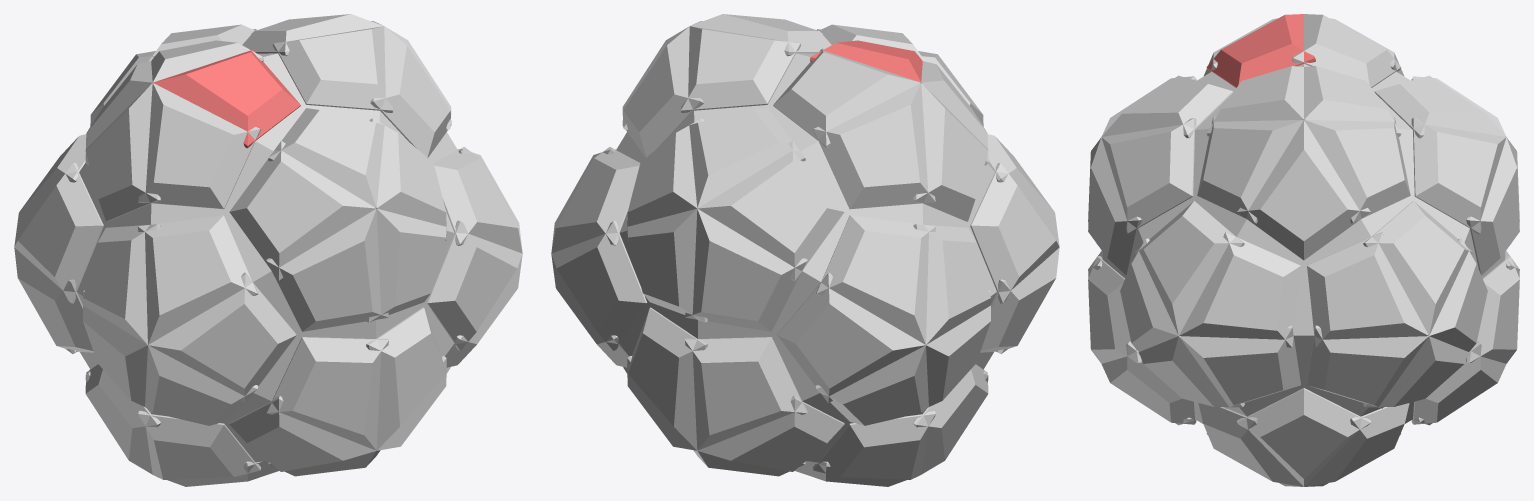
File: asu_capside.fbx
3 renders of one model, left to right at view 1: azimuth 30°, elevation 25°; view 2: azimuth 150°, elevation 25°; view 3: azimuth 270°, elevation 25°, orthographic. The views are drawn at different scales.
Visible parts, largest first — view 1: Platonic, Cylinder_1_2_5_0_instance_7, Cylinder_1_2_5_1_instance_7, Cylinder_1_2_5_2_instance_7, Cylinder_1_2_5_0_instance_16, Cylinder_1_2_5_2_instance_16, Cylinder_1_2_5_1_instance_16, Cylinder_1_2_5_2, Cylinder_1_2_5_0, Cylinder_1_2_5_1, Cylinder_1_2_5_0_instance_17, Cylinder_1_2_5_0_instance_6 (+23 smaller); view 2: Platonic, Cylinder_1_2_5_2_instance_5, Cylinder_1_2_5_1_instance_5, Cylinder_1_2_5_0_instance_5, Cylinder_1_2_5_1_instance_19, Cylinder_1_2_5_2_instance_19, Cylinder_1_2_5_0_instance_19, Cylinder_1_2_5_0_instance_4, Cylinder_1_2_5_2_instance_4, Cylinder_1_2_5_1_instance_4, Cylinder_1_2_5_1_instance_18, Cylinder_1_2_5_1_instance_6 (+23 smaller); view 3: Platonic, Cylinder_1_2_5_1_instance_2, Cylinder_1_2_5_2_instance_2, Cylinder_1_2_5_0_instance_2, Cylinder_1_2_5_1_instance, Cylinder_1_2_5_2_instance_3, Cylinder_1_2_5_2_instance, Cylinder_1_2_5_1_instance_3, Cylinder_1_2_5_0_instance, Cylinder_1_2_5_0_instance_3, Cylinder_1_2_5_1_instance_10, Cylinder_1_2_5_0_instance_10 (+19 smaller).
Boxes of the visible parts, box(x1,y1,x2,y2) form: Platonic: box(77, 53, 457, 462); Cylinder_1_2_5_0_instance_7: box(138, 83, 261, 209); Cylinder_1_2_5_1_instance_7: box(138, 215, 257, 344); Cylinder_1_2_5_2_instance_7: box(229, 141, 375, 281); Cylinder_1_2_5_0_instance_16: box(266, 337, 388, 450); Cylinder_1_2_5_2_instance_16: box(148, 272, 296, 403); Cylinder_1_2_5_1_instance_16: box(266, 208, 388, 331); Cylinder_1_2_5_2: box(273, 26, 393, 112); Cylinder_1_2_5_0: box(153, 48, 300, 148); Cylinder_1_2_5_1: box(268, 108, 392, 208); Cylinder_1_2_5_0_instance_17: box(426, 220, 522, 350); Cylinder_1_2_5_0_instance_6: box(14, 163, 103, 303); Platonic: box(616, 53, 996, 462); Cylinder_1_2_5_2_instance_5: box(812, 83, 935, 209); Cylinder_1_2_5_1_instance_5: box(816, 215, 935, 344); Cylinder_1_2_5_0_instance_5: box(698, 141, 844, 281); Cylinder_1_2_5_1_instance_19: box(685, 337, 807, 450); Cylinder_1_2_5_2_instance_19: box(777, 272, 925, 403); Cylinder_1_2_5_0_instance_19: box(685, 208, 807, 331); Cylinder_1_2_5_0_instance_4: box(680, 26, 800, 112); Cylinder_1_2_5_2_instance_4: box(773, 48, 920, 148); Cylinder_1_2_5_1_instance_4: box(681, 108, 805, 208); Cylinder_1_2_5_1_instance_18: box(551, 220, 647, 350); Cylinder_1_2_5_1_instance_6: box(970, 163, 1059, 303); Platonic: box(1102, 64, 1505, 423); Cylinder_1_2_5_1_instance_2: box(1179, 232, 1300, 347); Cylinder_1_2_5_2_instance_2: box(1307, 232, 1428, 347); Cylinder_1_2_5_0_instance_2: box(1237, 120, 1370, 260); Cylinder_1_2_5_1_instance: box(1101, 118, 1196, 234); Cylinder_1_2_5_2_instance_3: box(1411, 118, 1506, 234); Cylinder_1_2_5_2_instance: box(1135, 201, 1244, 335); Cylinder_1_2_5_1_instance_3: box(1363, 201, 1472, 335); Cylinder_1_2_5_0_instance: box(1197, 116, 1303, 223); Cylinder_1_2_5_0_instance_3: box(1304, 116, 1410, 223); Cylinder_1_2_5_1_instance_10: box(1237, 388, 1370, 486); Cylinder_1_2_5_0_instance_10: box(1179, 325, 1300, 408).
Size of the model in its own units: 183 by 183 by 183.
